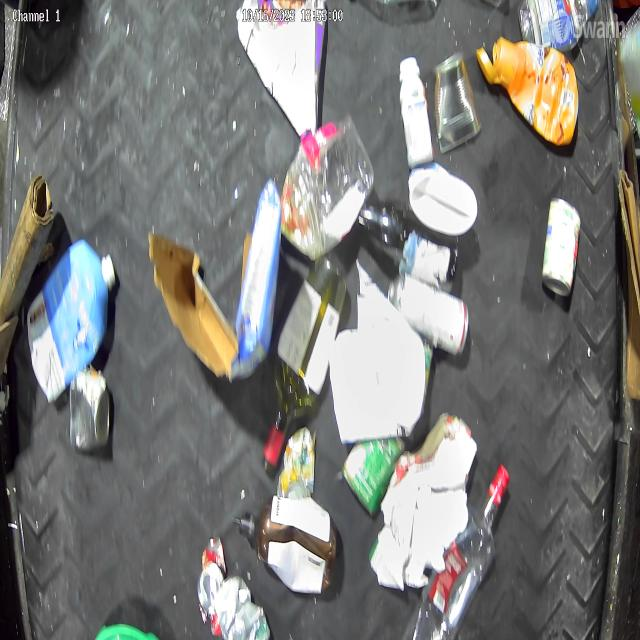can: (383, 274, 470, 356), (434, 49, 482, 156), (342, 437, 406, 516), (541, 198, 582, 297), (215, 574, 272, 640), (68, 372, 111, 450), (278, 426, 316, 498), (198, 562, 224, 610)
milk_jug: (408, 162, 478, 235)
non_white_jug: (27, 238, 117, 404), (477, 38, 580, 147)
plastic_bottle: (404, 463, 509, 640), (281, 115, 376, 260)
